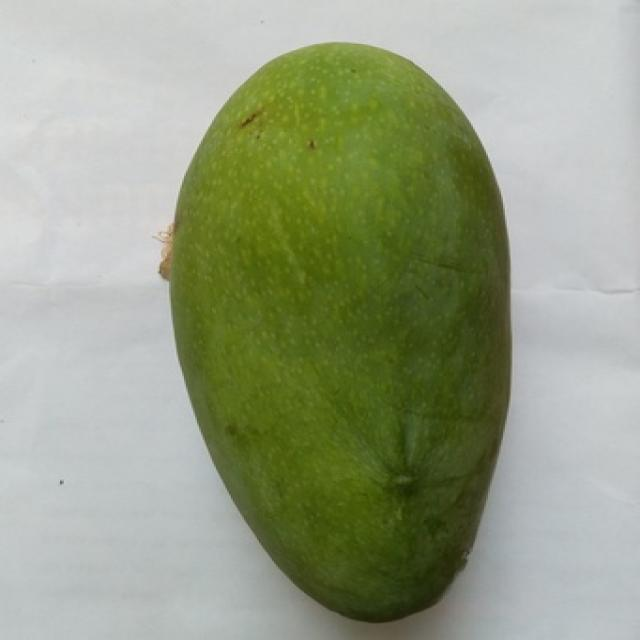Mango: (161, 44, 509, 620)
